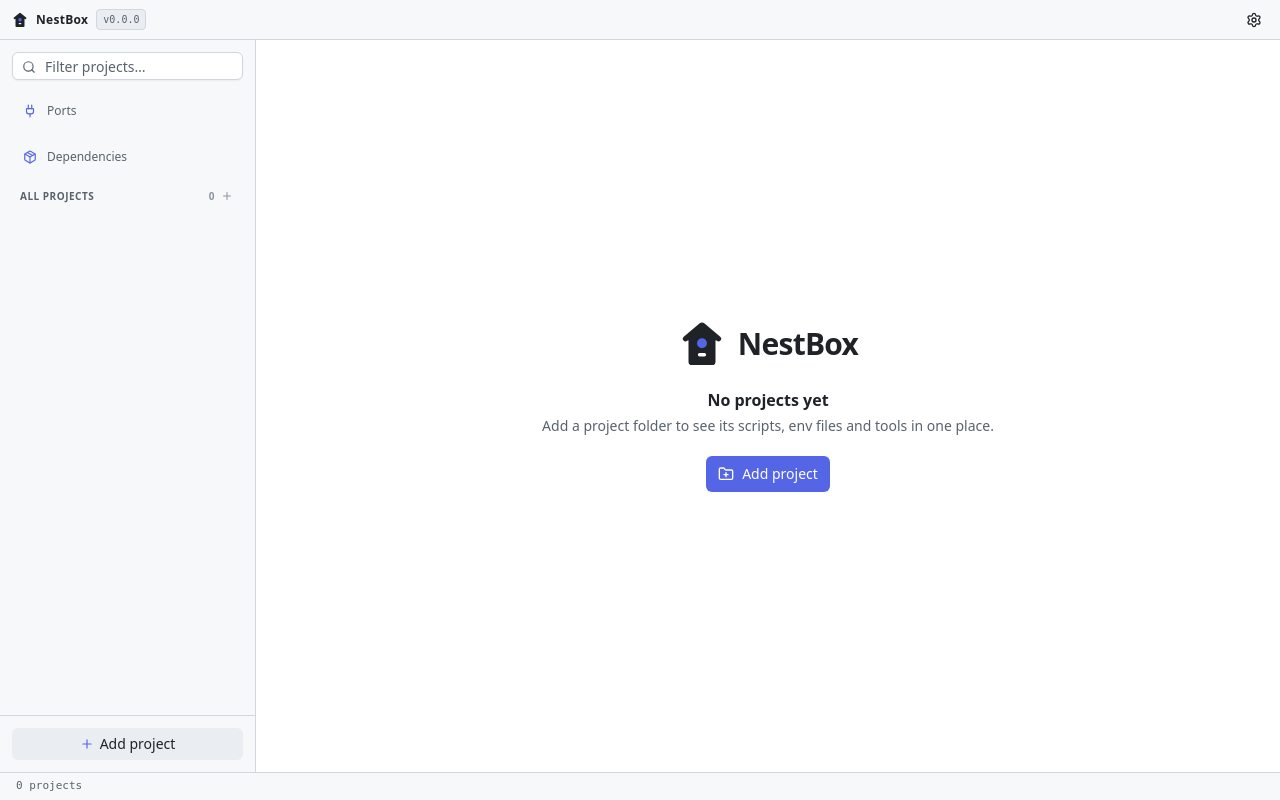
App shell › adds a project from the empty state and selects it
Expected: the heading "No projects yet" is shown, [707,389,829,411]
Click the button "Add project" below "No projects yet" at (768, 474), box [706,456,830,492]
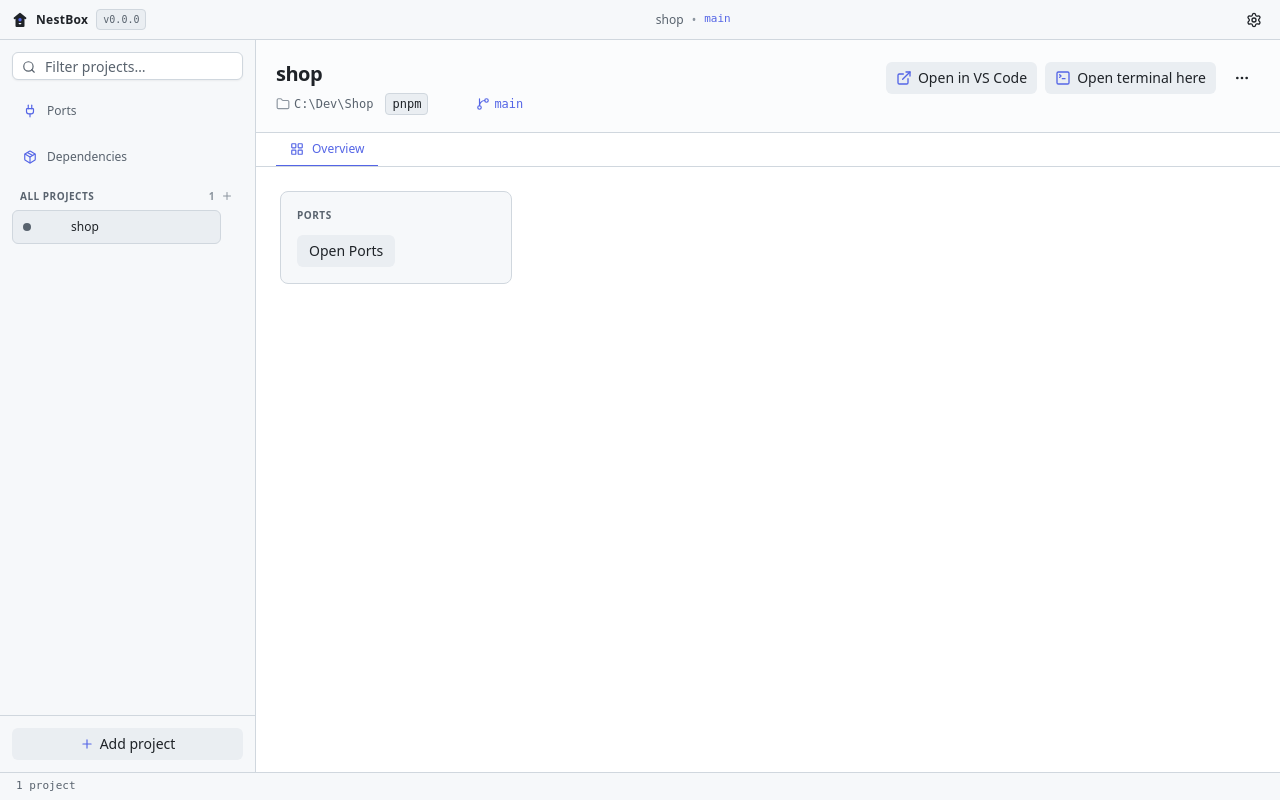
Expected: the heading "shop" is shown, [276,60,322,88]
Expected: the text "1 project" is shown, [16,778,76,795]
